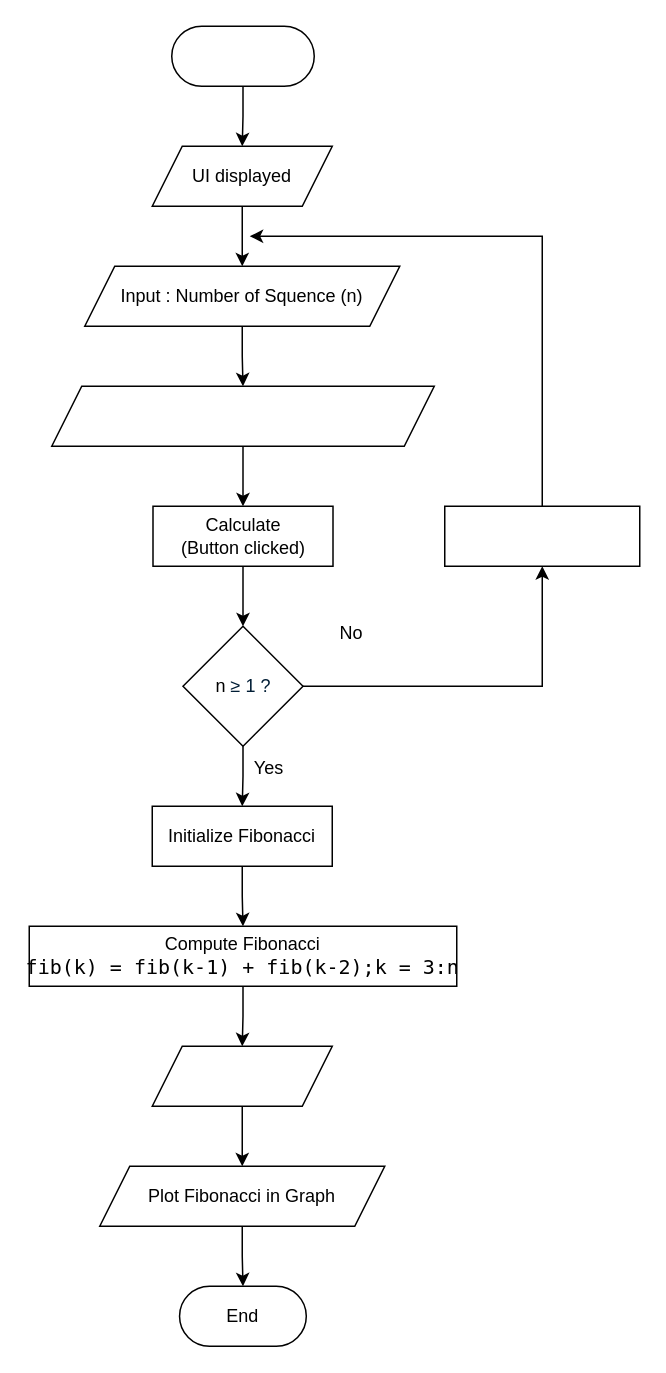
The diagram is 666 pixels wide and 1373 high, and some of its shapes have lost their labels. The centre of each missing label's shape, as x and y in pixels:
"Display Result" goes at [241,1075].
"Error massage (Please enter n >= 1)" goes at [541,535].
"Input : First term (a) and Second term (b)" goes at [242,415].
"Start" goes at [242,55].
